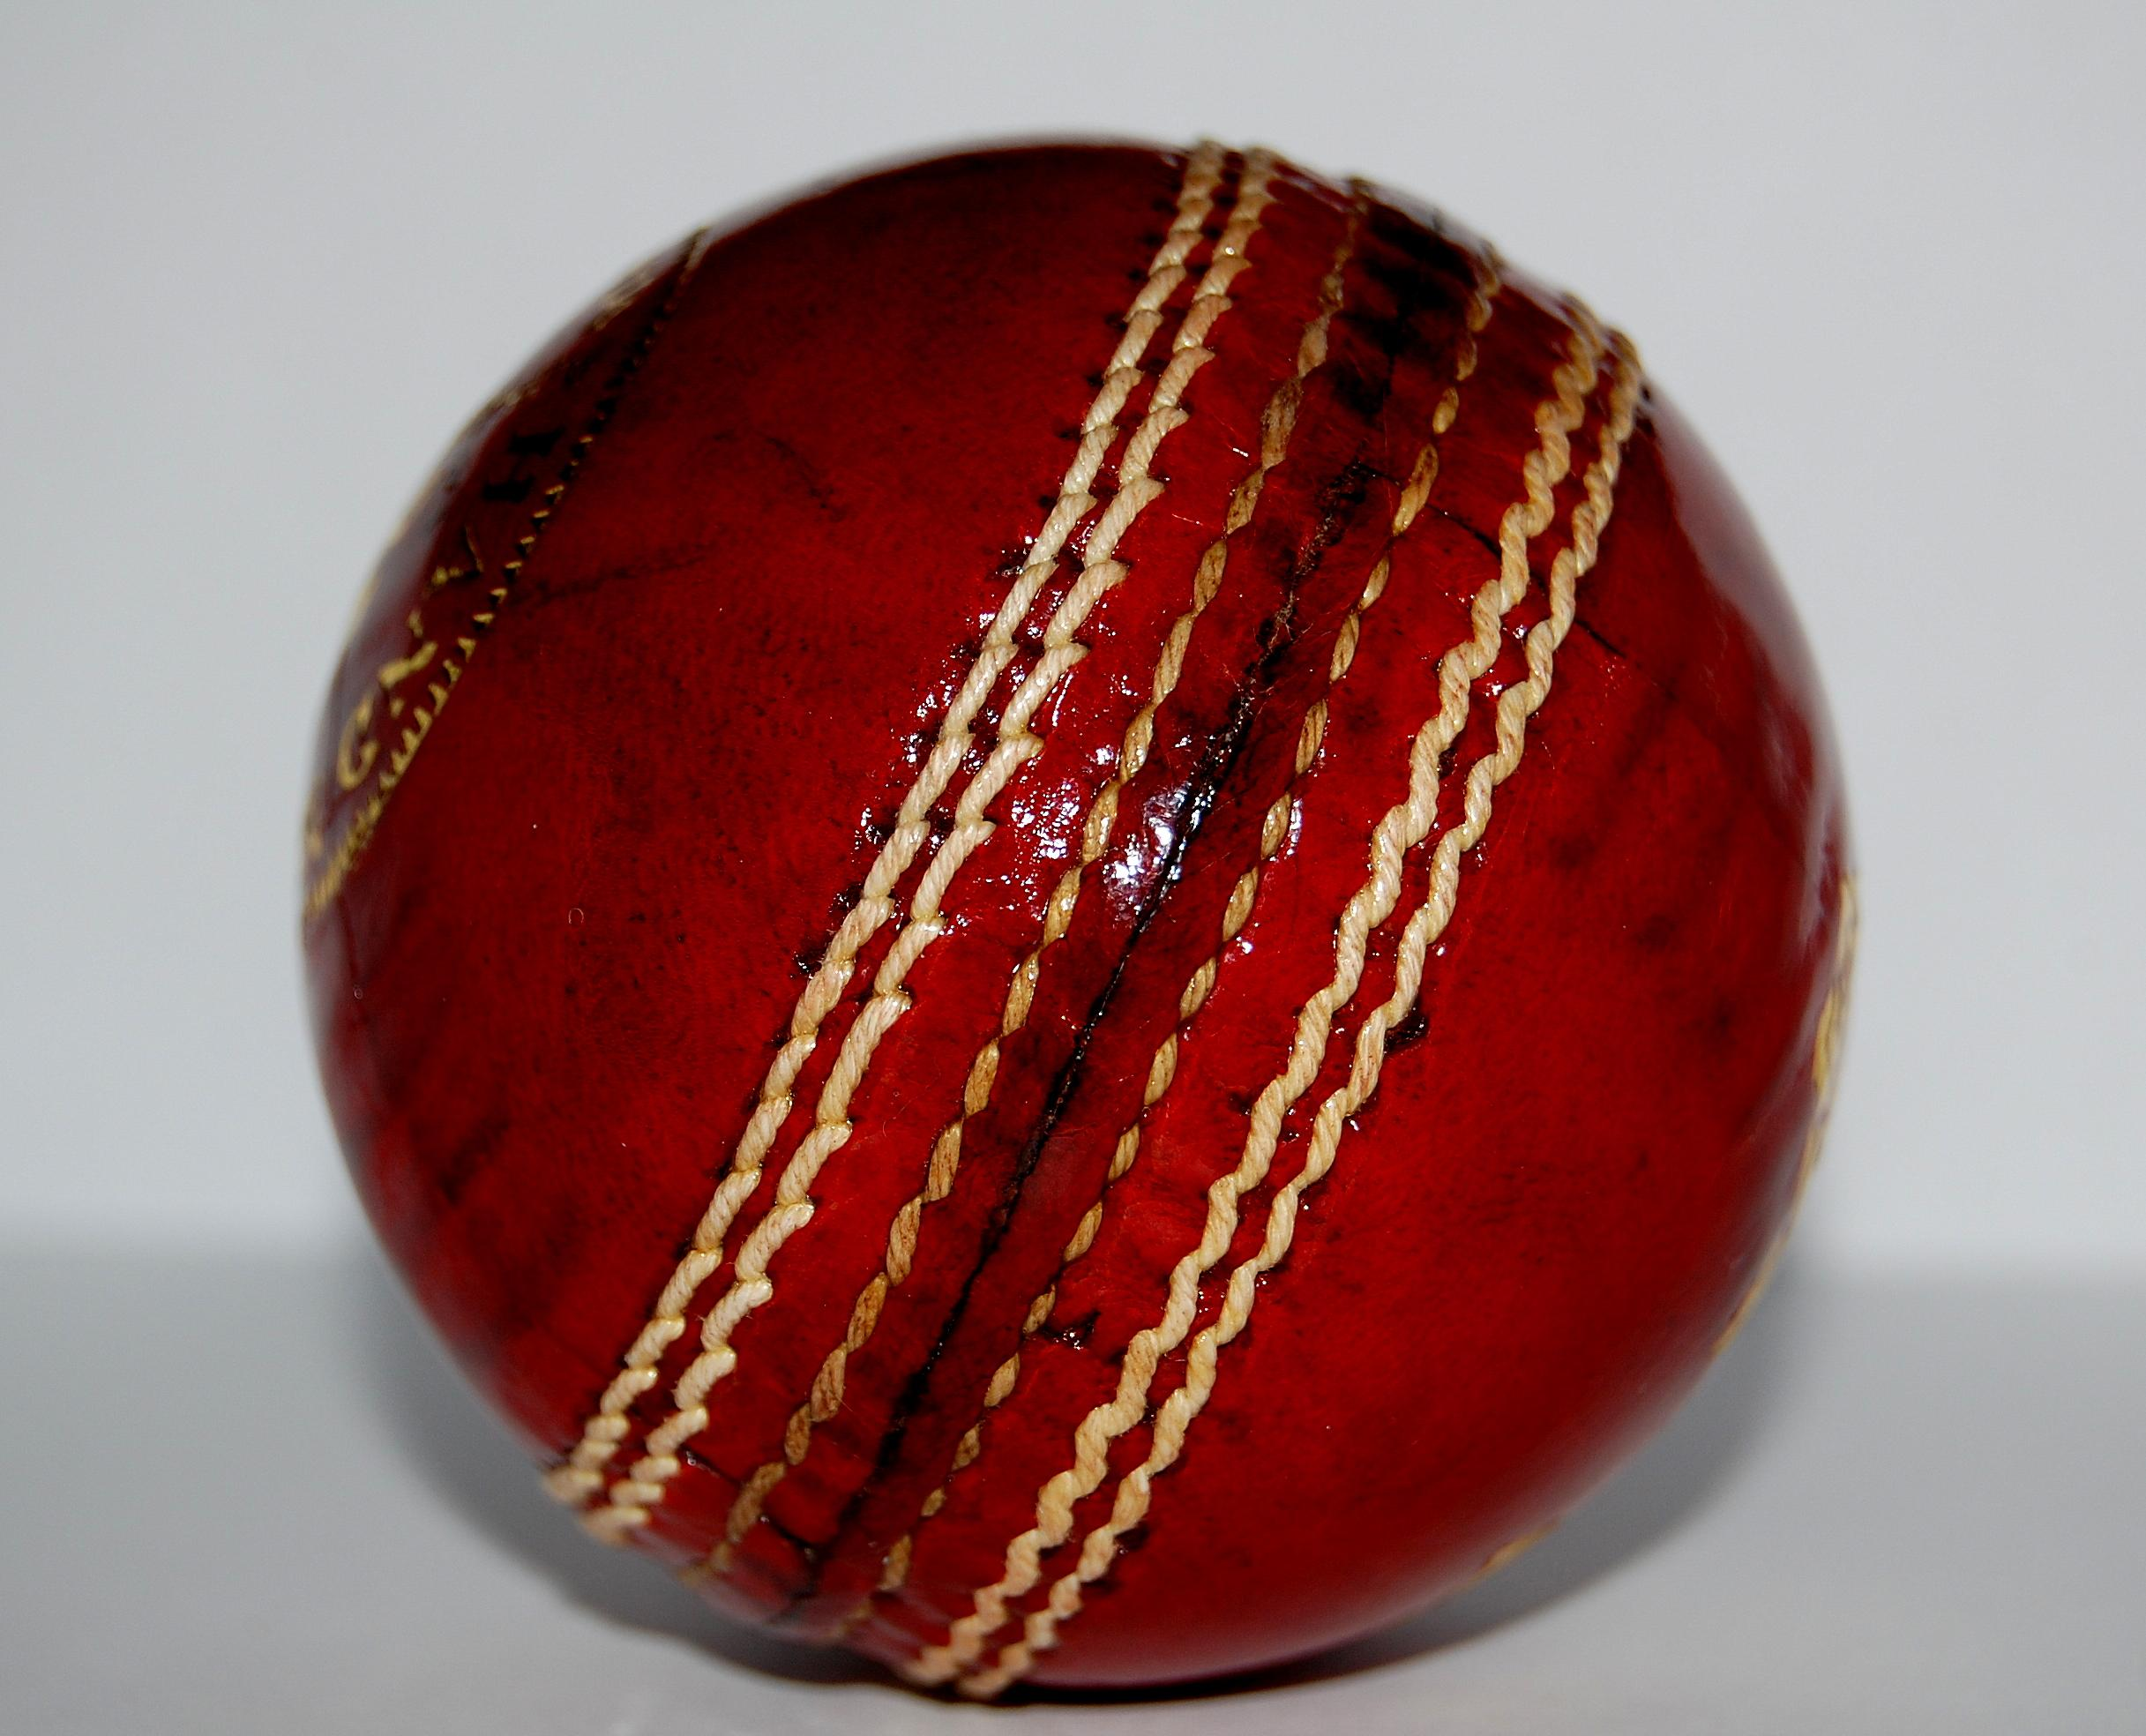Red_Ball: (197, 152, 1987, 1704)
